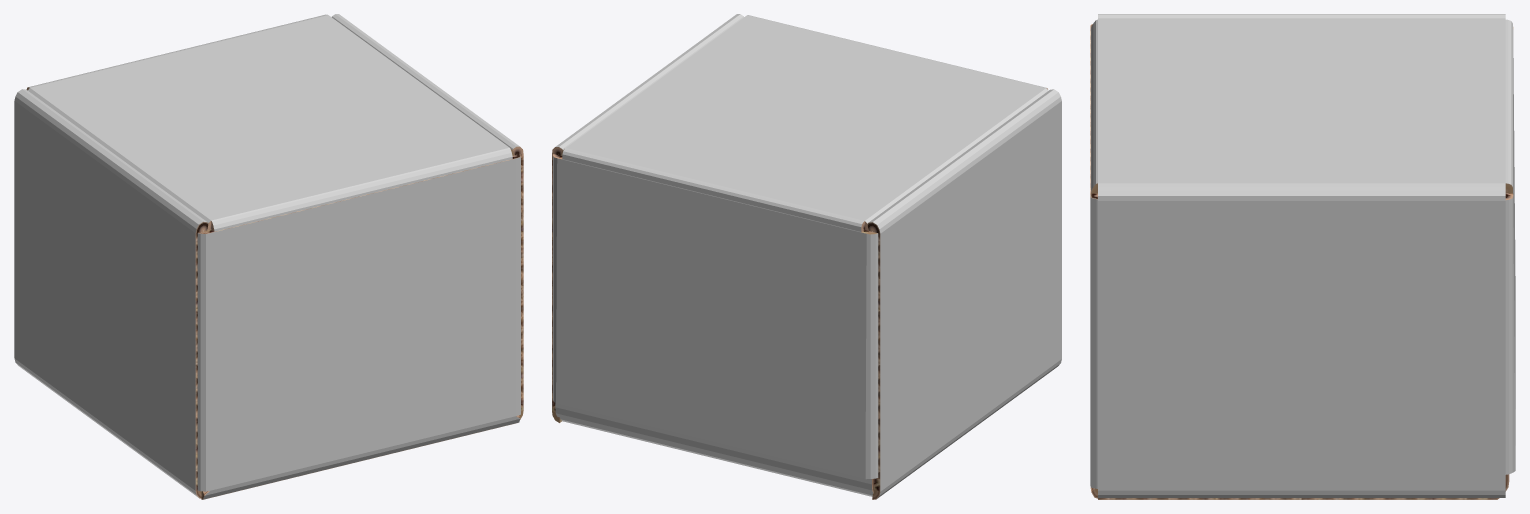
Rendered from cardboard-premium9x9x5.gltf.
The picture shows the model from 3 angles, left to right: view 1: azimuth 30°, elevation 25°; view 2: azimuth 150°, elevation 25°; view 3: azimuth 270°, elevation 25°; orthographic projection. The views are drawn at different scales.
Parts seen in each view (by area): view 1: Cube.002; view 2: Cube.002; view 3: Cube.002.
Boxes of the visible parts, left/top/right/bottom form: Cube.002: left=14, top=14, right=523, bottom=499; Cube.002: left=552, top=14, right=1061, bottom=499; Cube.002: left=1090, top=14, right=1515, bottom=499.
Bounding box in the file's own units: 3 × 2.43 × 3.
2 materials, 1 textured.
